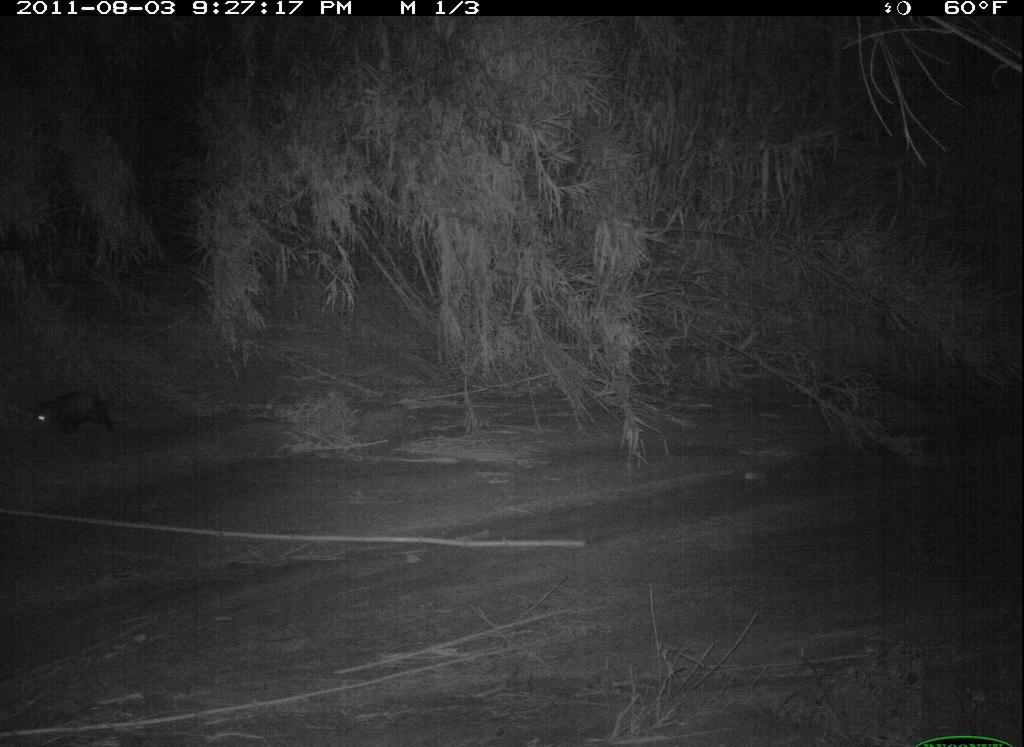opossum: (27, 381, 144, 446)
